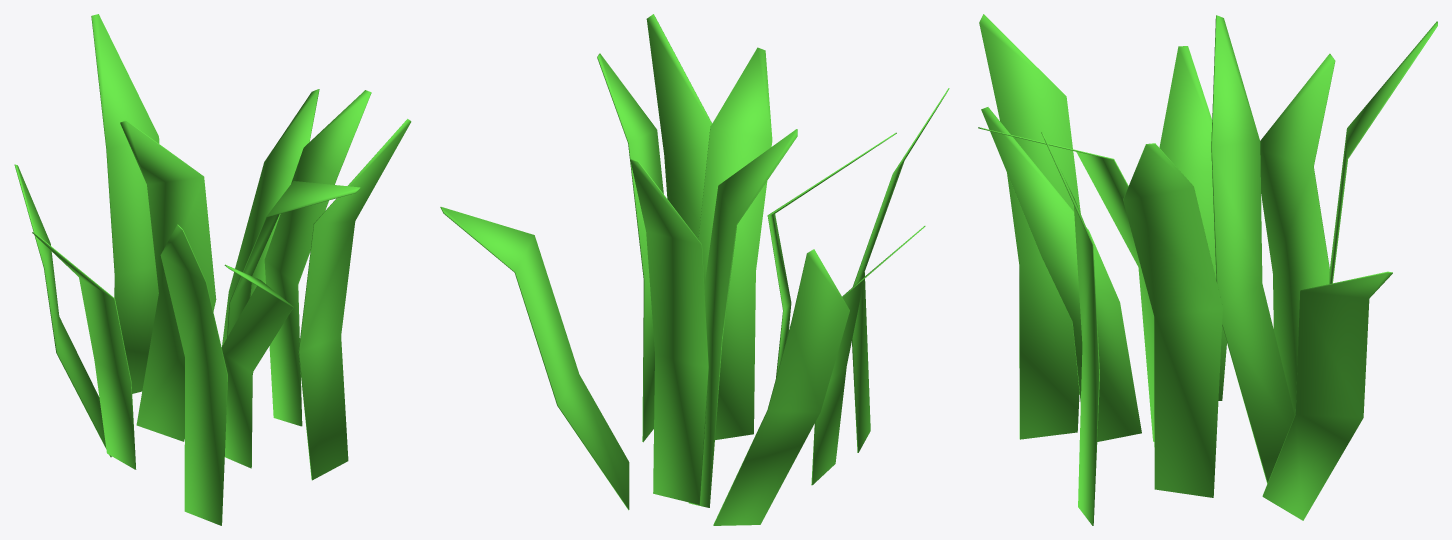
File: PastFoliageGrassV3Low.fbx
3 renders of one model, left to right at view 1: azimuth 30°, elevation 25°; view 2: azimuth 150°, elevation 25°; view 3: azimuth 270°, elevation 25°, orthographic. The views are drawn at different scales.
Visible parts, largest first — view 1: PastFoliageGrassV3Low; view 2: PastFoliageGrassV3Low; view 3: PastFoliageGrassV3Low.
Part boxes in pixels (<box>): PastFoliageGrassV3Low: <box>14,14,411,525</box>; PastFoliageGrassV3Low: <box>440,14,949,525</box>; PastFoliageGrassV3Low: <box>978,14,1437,525</box>.
Size of the model in its own units: 35.34 by 35.16 by 31.73.
